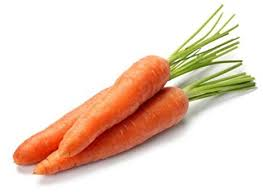carrot: (38, 85, 209, 173), (62, 55, 177, 155), (13, 86, 114, 166)
